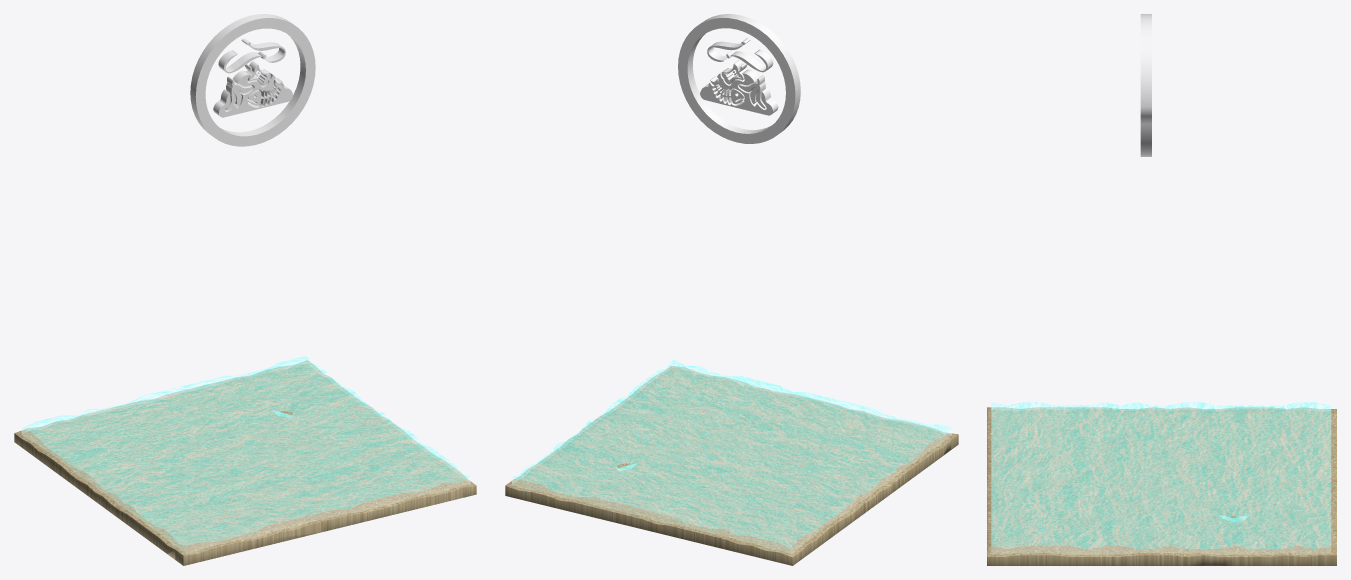
The model's file is water-lower-waste-trans1.glb.
The picture shows the model from 3 angles, left to right: view 1: azimuth 30°, elevation 25°; view 2: azimuth 150°, elevation 25°; view 3: azimuth 270°, elevation 25°; orthographic projection. The views are drawn at different scales.
Parts seen in each view (by area): view 1: Sand, Plane.002_1, Curve.041, Plane.002_0; view 2: Sand, Plane.002_1, Curve.041, Plane.002_0; view 3: Sand, Plane.002_1, Plane.002_0, Curve.041.
Part boxes in pixels (x1,y1,x2,y2): Sand: (14,360,476,565); Plane.002_1: (22,356,470,545); Curve.041: (190,14,315,146); Plane.002_0: (21,429,470,552); Sand: (505,366,958,565); Plane.002_1: (512,360,951,548); Curve.041: (678,14,800,143); Plane.002_0: (512,428,951,553); Sand: (987,407,1336,565); Plane.002_1: (991,402,1331,549); Plane.002_0: (991,402,1331,554); Curve.041: (1140,14,1151,156).
Bounding box in the file's own units: 107 × 159 × 107.
4 materials, 2 textured.
